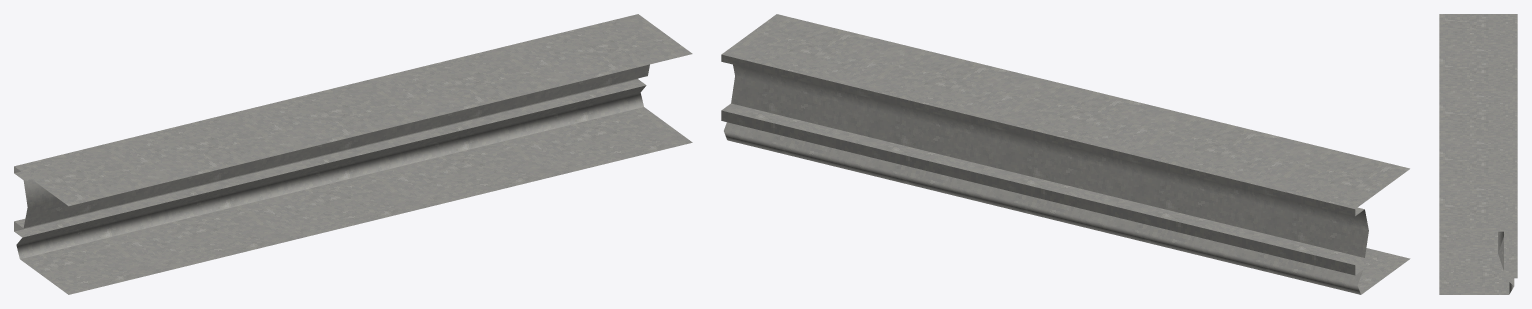
Rendered from GJ_Trim_01_02.fbx.
3 renders of one model, left to right at view 1: azimuth 30°, elevation 25°; view 2: azimuth 150°, elevation 25°; view 3: azimuth 270°, elevation 25°, orthographic. The views are drawn at different scales.
Visible parts, largest first — view 1: GJ_Trim_01_02; view 2: GJ_Trim_01_02; view 3: GJ_Trim_01_02.
Boxes of the visible parts, left/top/right/bottom form: GJ_Trim_01_02: left=14, top=14, right=692, bottom=294; GJ_Trim_01_02: left=721, top=14, right=1410, bottom=294; GJ_Trim_01_02: left=1439, top=14, right=1517, bottom=294.
Size of the model in its own units: 400 by 54.31 by 60.61.
